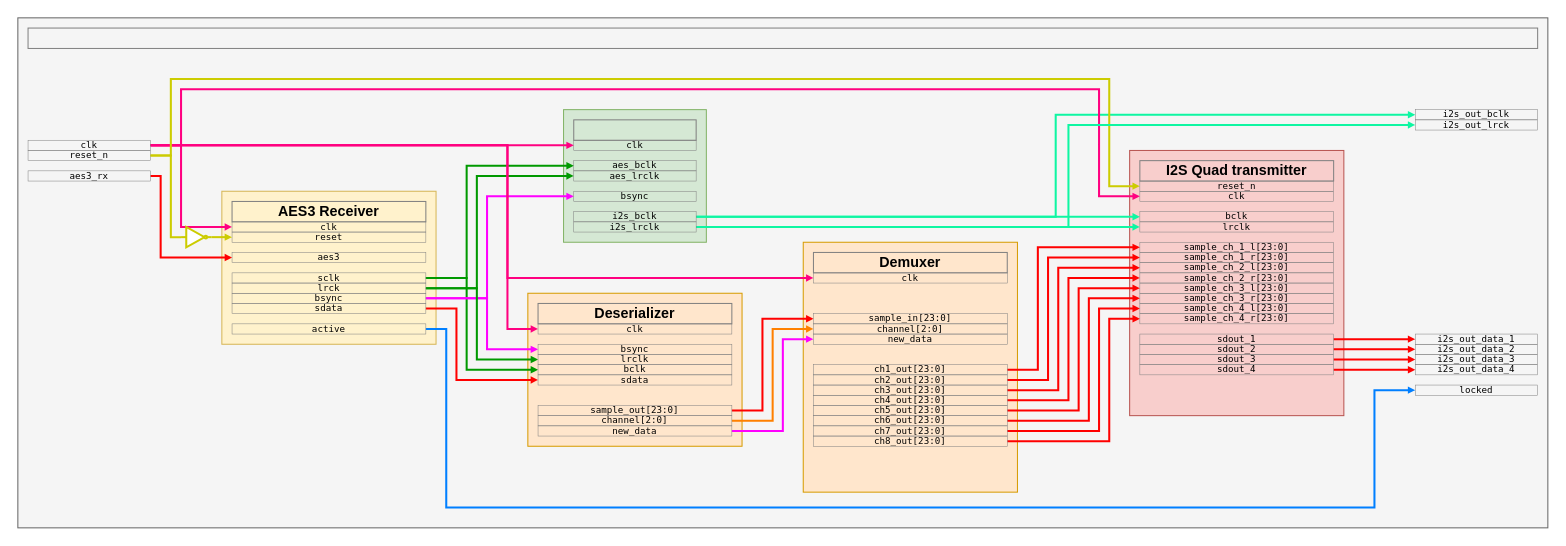
This 1566x546 diagram has some shape labels left out. Here are the shapes that lost their labels. From the top down, the centre of each, then its label:
(782,37): Ultranet receiver
(634,129): Clocks
